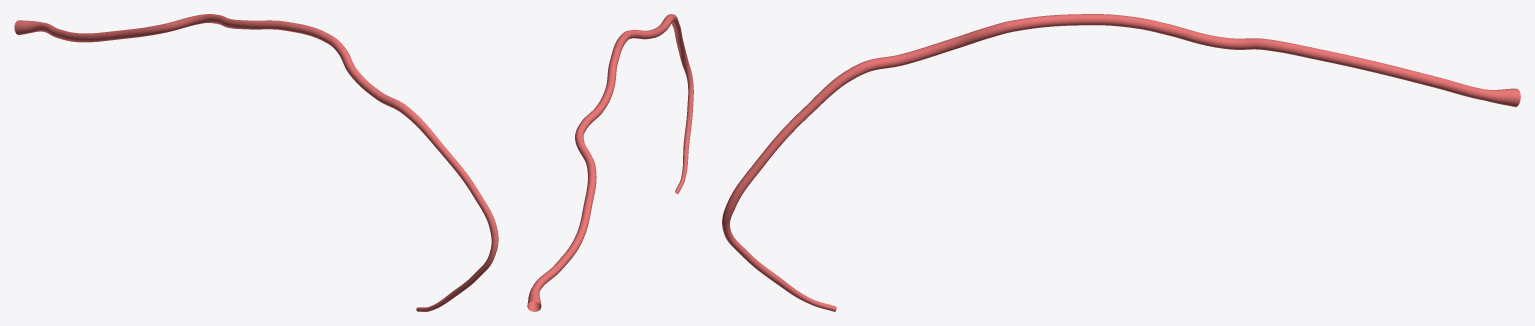
The model's file is Infra-orbital_artery.r_BezierCurve.102.glb.
The picture shows the model from 3 angles, left to right: view 1: azimuth 30°, elevation 25°; view 2: azimuth 150°, elevation 25°; view 3: azimuth 270°, elevation 25°; orthographic projection. The views are drawn at different scales.
Parts seen in each view (by area): view 1: Infra-orbital_artery.r_BezierCurve.102; view 2: Infra-orbital_artery.r_BezierCurve.102; view 3: Infra-orbital_artery.r_BezierCurve.102.
Part boxes in pixels (x1,y1,x2,y2): Infra-orbital_artery.r_BezierCurve.102: (14, 14, 498, 311); Infra-orbital_artery.r_BezierCurve.102: (527, 14, 693, 311); Infra-orbital_artery.r_BezierCurve.102: (722, 14, 1520, 311).
Bounding box in the file's own units: 0.0126 × 0.0165 × 0.0424.
